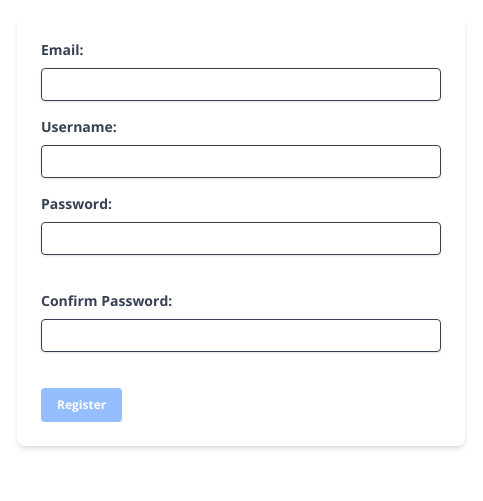
RegisterForm › handles duplicate email error from API
Type "duplicate@example.com" into the field labelled "Email:" at [241, 84], box [41, 68, 441, 101]
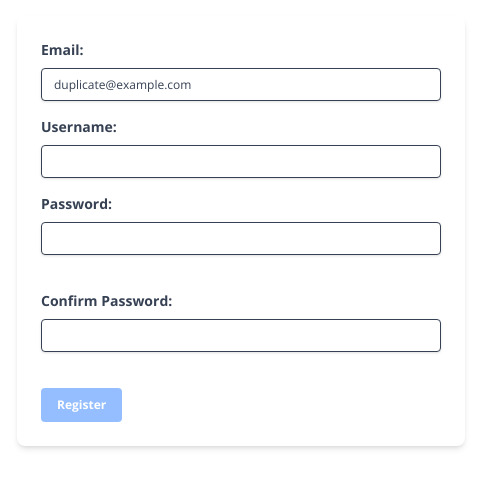
Type "duplicateuser" into the field labelled "Username:" at [241, 162], box [41, 145, 441, 178]
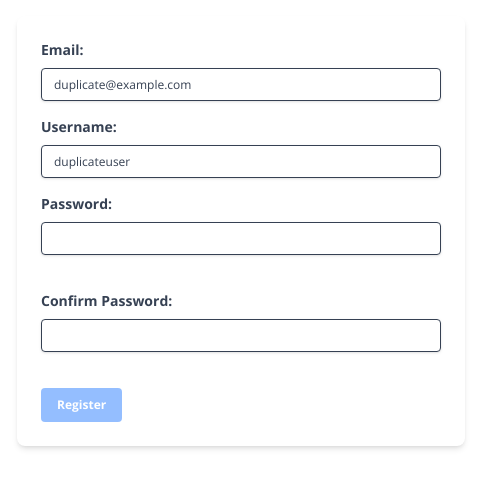
Type "StrongP@ss1!" into the password field labelled "Password:" at [241, 238], box [41, 222, 441, 255]
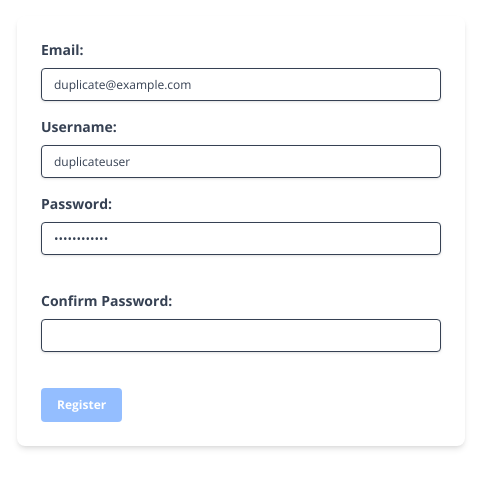
Type "StrongP@ss1!" into the password field with id "confirmPassword" at [241, 336], box [41, 319, 441, 352]
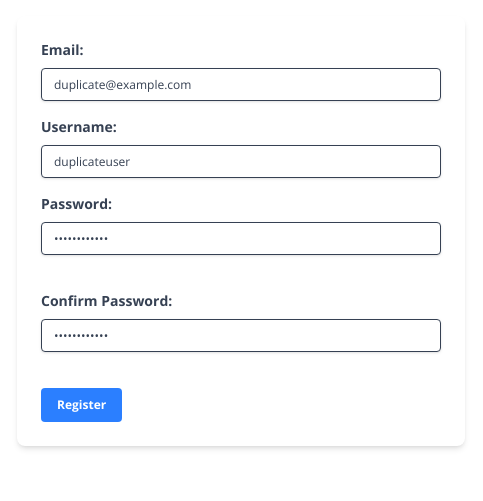
Submit the form
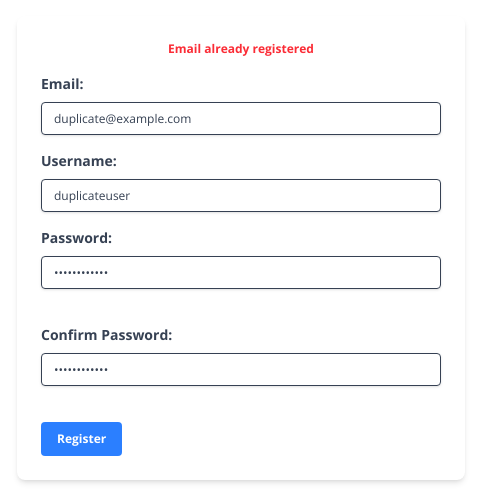
Expected: the text with class "error-message" reads "Email already registered", [168, 40, 314, 57]
